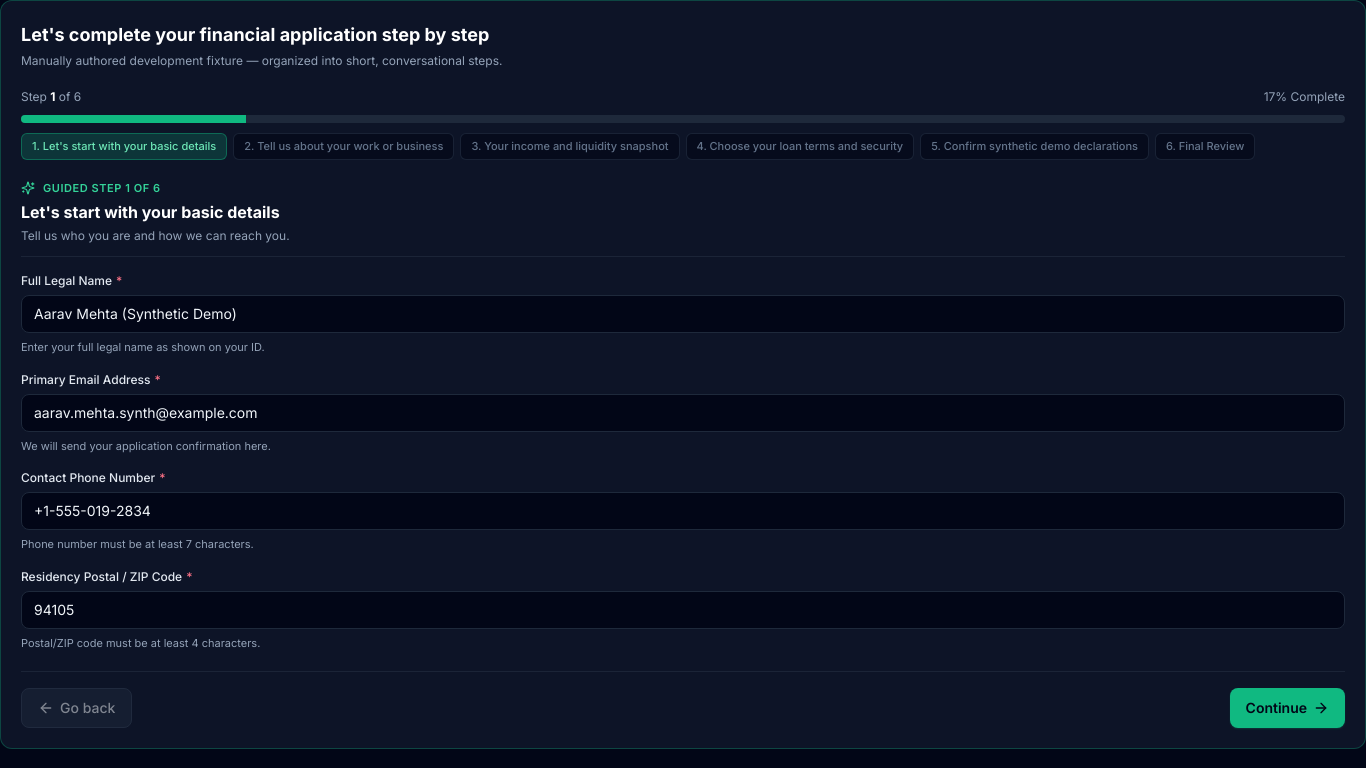
it: Day 7: Dynamic React Renderer (8 Core Tests) › 3, 4 & 6. advances Next, updates progress indicator, and navigates Previous
Expected: the text with test id "adaptive-progress-step" reads "1", x1=50 y1=89 x2=55 y2=104
Click the button with test id "adaptive-next-btn".
click(1287, 708)  # box x1=1230 y1=688 x2=1345 y2=728
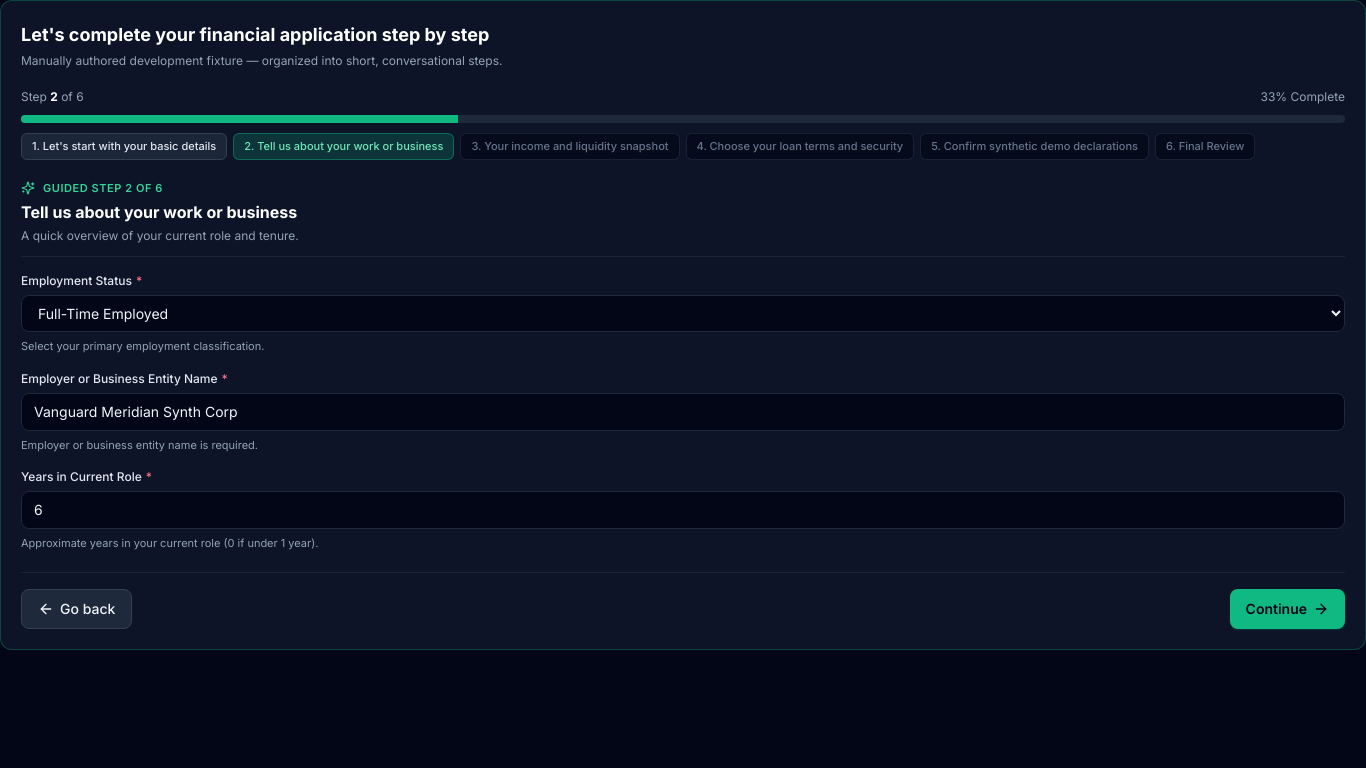
Expected: the text with test id "adaptive-progress-step" reads "2", x1=50 y1=89 x2=58 y2=104
Expected: the dropdown with test id "adaptive-input-employmentStatus" is shown, x1=21 y1=295 x2=1345 y2=332
Click the button with test id "adaptive-prev-btn".
click(77, 608)  # box x1=21 y1=588 x2=132 y2=628
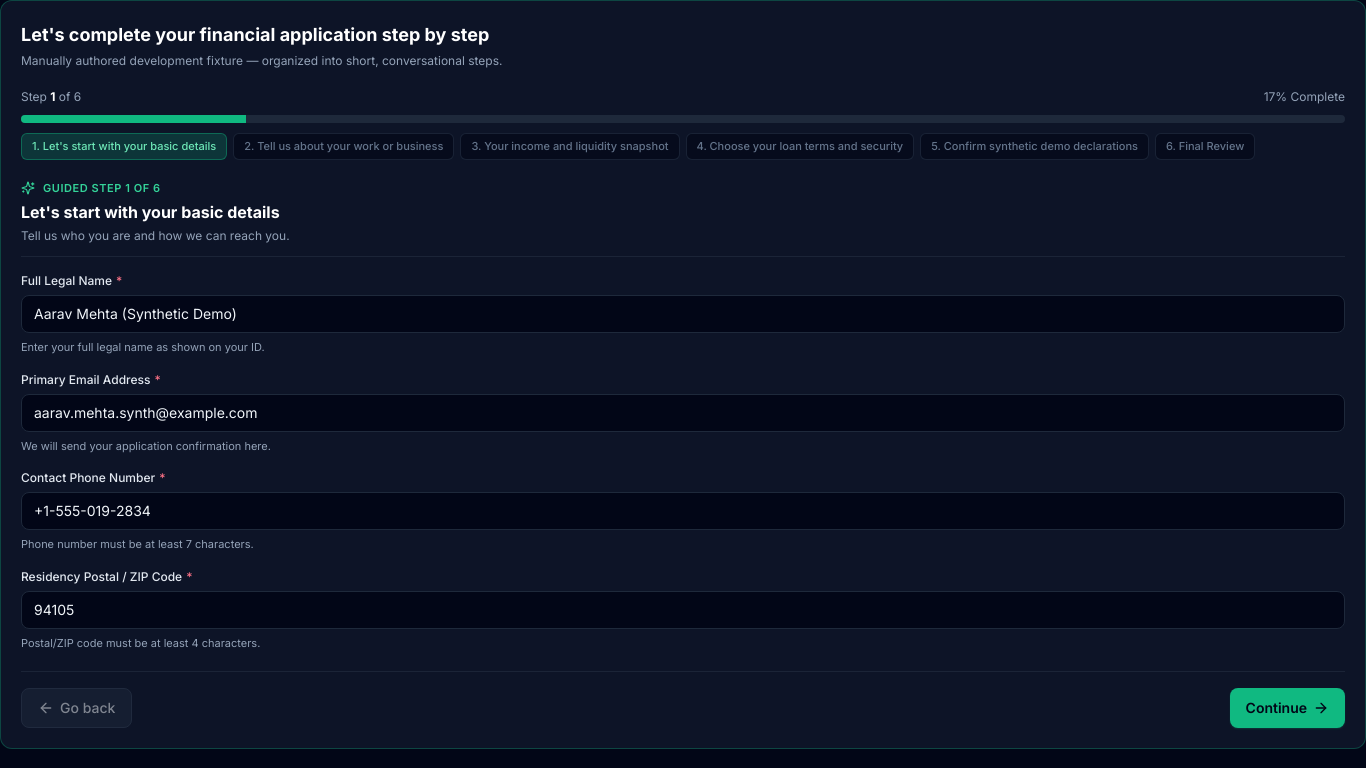
Expected: the text with test id "adaptive-progress-step" reads "1", x1=50 y1=89 x2=55 y2=104
Expected: the field with test id "adaptive-input-fullName" is shown, x1=21 y1=295 x2=1345 y2=333
